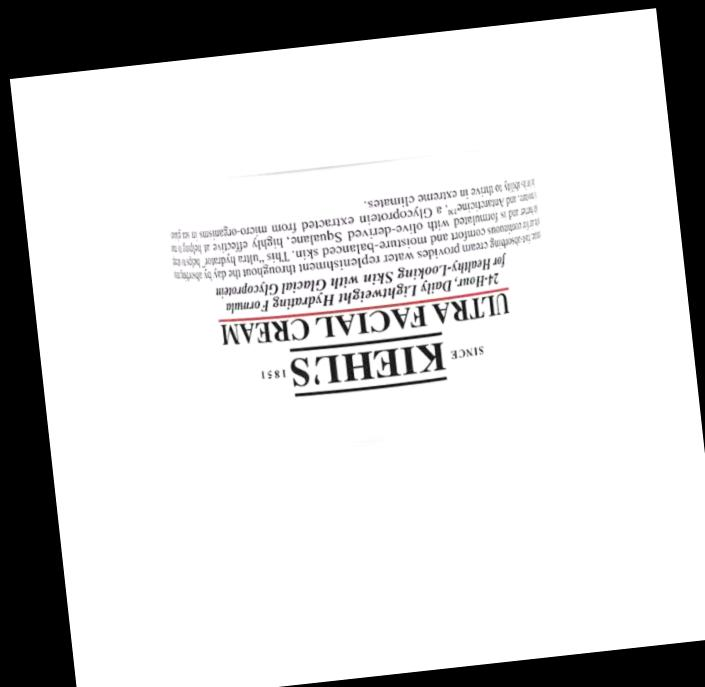cosmetic: (160, 141, 576, 499)
